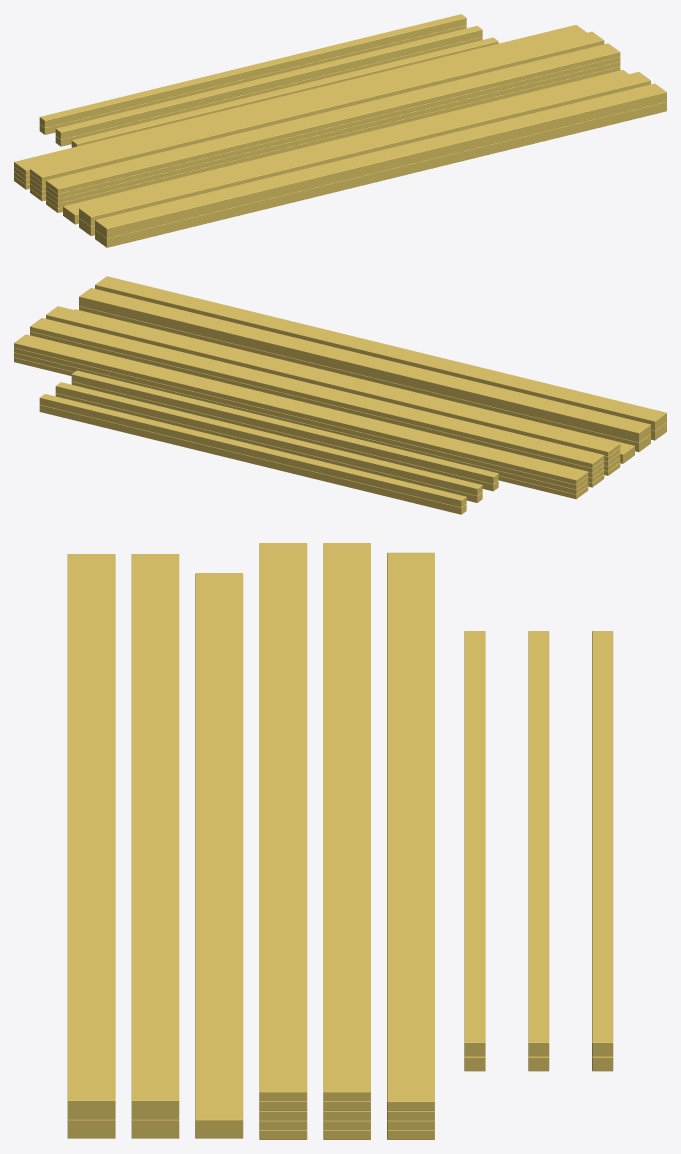
Rendered from bed5.glb.
3 views of the same model, one above another, from view 1: azimuth 30°, elevation 25°; view 2: azimuth 150°, elevation 25°; view 3: azimuth 270°, elevation 25° (orthographic). The views are drawn at different scales.
Visible parts, largest first — view 1: girder1.2, beam1.5, girder1.3, beam2.5, beam1.7, girder1.1, guide1.2, guide1.3, girder1.005, guide2.2, beam1.4, beam1.3 (+3 smaller); view 2: girder1.3, beam2.5, beam1.7, girder1.2, beam1.5, guide2.2, guide1.2, guide1.3, guide2.3, beam1.6, girder1.4, beam2.4 (+5 smaller); view 3: girder1.005, girder1.2, girder1.3, beam1.5, beam1.7, beam2.5, guide1.2, guide1.3, guide2.2, girder1.1, girder1.4.
Part boxes in pixels (x1,y1,x2,y2): girder1.2: (95,83,666,237); beam1.5: (46,43,620,193); girder1.3: (79,72,650,226); beam2.5: (30,31,604,181); beam1.7: (14,25,586,174); girder1.1: (95,101,666,247); guide1.2: (55,25,482,139); guide1.3: (39,14,466,127); girder1.005: (63,70,628,224); guide2.2: (71,37,498,147); beam1.4: (46,56,620,198); beam1.3: (46,61,620,203); girder1.3: (79,288,650,442); beam2.5: (30,318,604,468); beam1.7: (14,334,588,484); girder1.2: (95,276,666,430); beam1.5: (46,306,620,456); guide2.2: (71,370,498,483); guide1.2: (55,382,482,495); guide1.3: (39,394,466,507); guide2.3: (39,405,466,514); beam1.6: (14,347,588,489); girder1.4: (79,306,650,452); beam2.4: (30,331,604,472); girder1.005: (195,573,243,1138); girder1.2: (67,554,115,1119); girder1.3: (131,554,179,1119); beam1.5: (259,543,307,1101); beam1.7: (387,552,434,1110); beam2.5: (323,543,370,1101); guide1.2: (528,631,549,1056); guide1.3: (592,631,613,1056); guide2.2: (464,631,485,1056); girder1.1: (67,1119,115,1138); girder1.4: (131,1119,179,1138).
Bounding box in the file's own units: 2.44 × 0.1 × 1.03.
